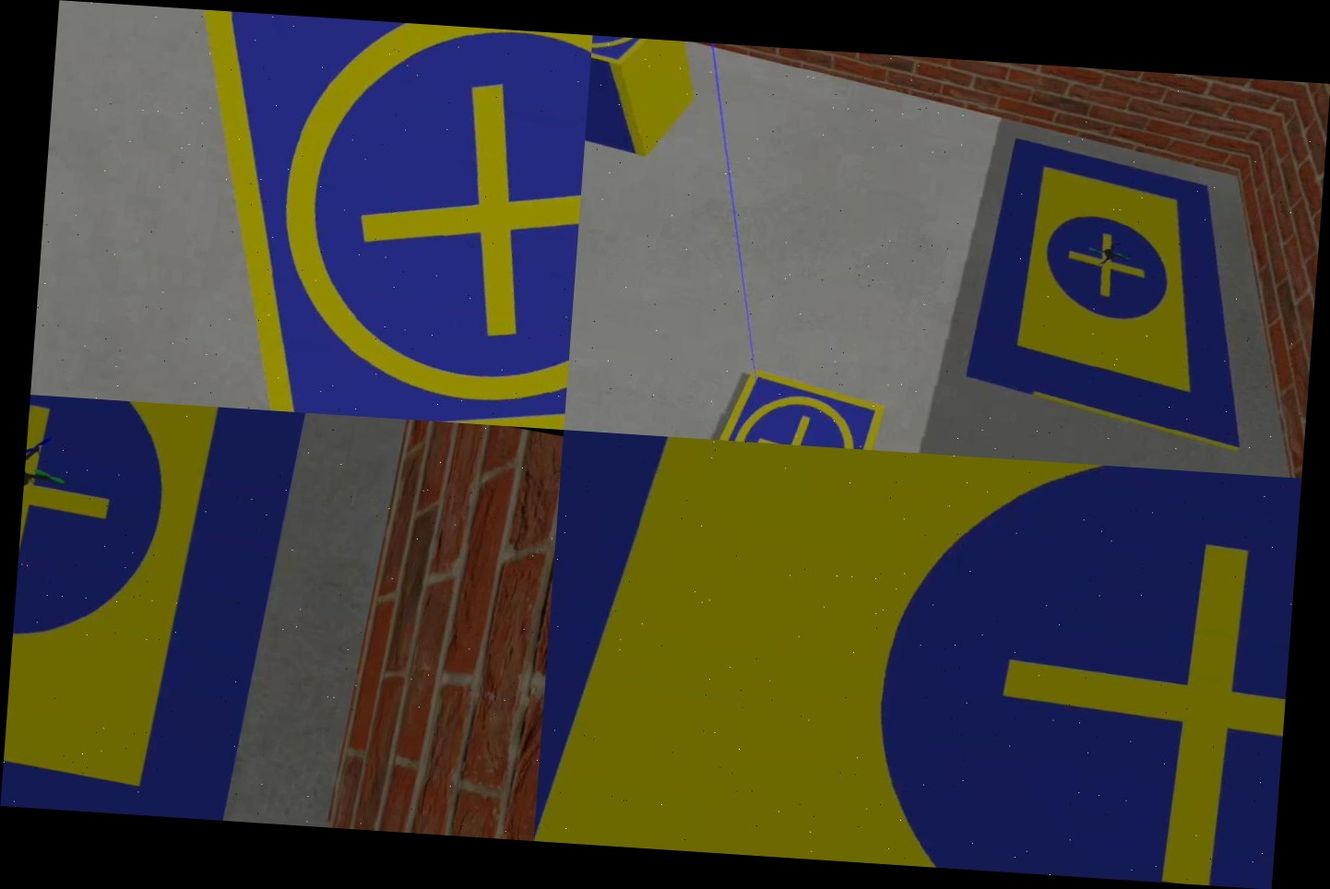large_base: (534, 430, 1300, 889), (0, 395, 309, 824), (955, 130, 1299, 456)
small_base: (107, 6, 593, 430), (690, 363, 888, 451)
